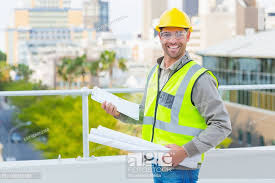Person_wearing_helmet: (151, 3, 195, 40)
